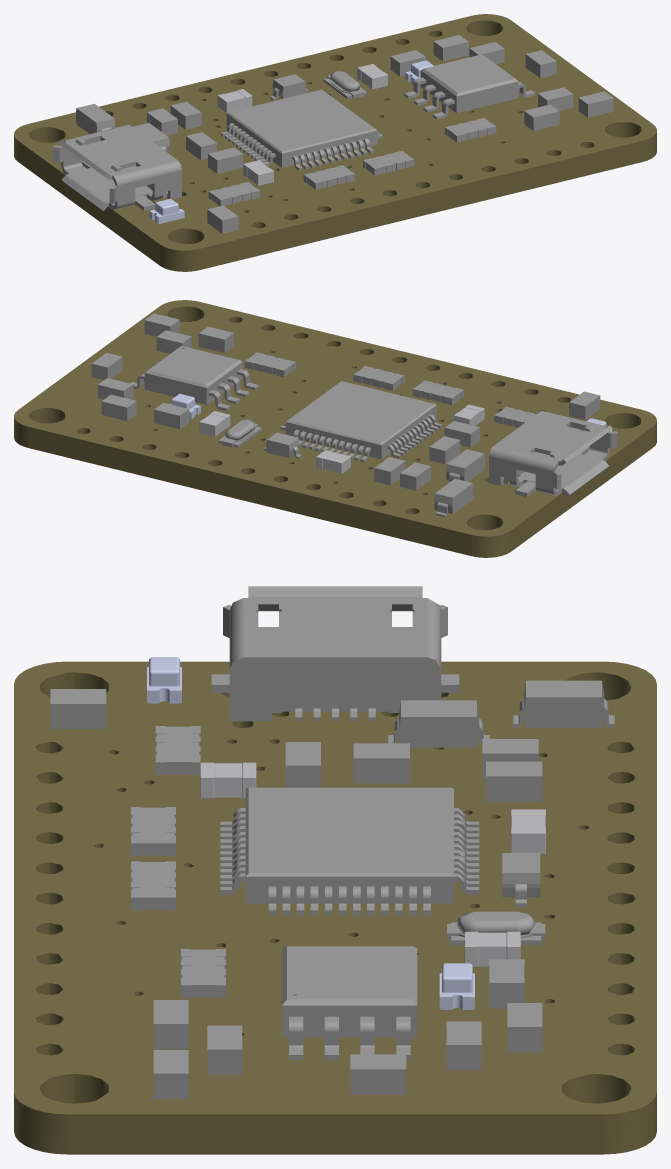
Rendered from ada-2341.glb.
3 renders of one model, top to bottom at view 1: azimuth 30°, elevation 25°; view 2: azimuth 150°, elevation 25°; view 3: azimuth 270°, elevation 25°, orthographic. The views are drawn at different scales.
Visible parts, largest first — view 1: 0.16666666666666666_0.16666666666666666_0.08333333333333333_, 0.3333333333333333_0.3333333333333333_0.3333333333333333_0, 0.5833333333333334_0.5833333333333334_0.5833333333333334_0.8, 0.5833333333333334_0.6666666666666666_0.8333333333333334_0; view 2: 0.16666666666666666_0.16666666666666666_0.08333333333333333_, 0.3333333333333333_0.3333333333333333_0.3333333333333333_0, 0.5833333333333334_0.5833333333333334_0.5833333333333334_0.8, 0.5833333333333334_0.6666666666666666_0.8333333333333334_0; view 3: 0.16666666666666666_0.16666666666666666_0.08333333333333333_, 0.3333333333333333_0.3333333333333333_0.3333333333333333_0, 0.5833333333333334_0.5833333333333334_0.5833333333333334_0.8, 0.5833333333333334_0.6666666666666666_0.8333333333333334_0.
Boxes of the visible parts, x1,y1,x2,y2 form: 0.16666666666666666_0.16666666666666666_0.08333333333333333_: (14,14,656,271); 0.3333333333333333_0.3333333333333333_0.3333333333333333_0: (53,35,613,233); 0.5833333333333334_0.5833333333333334_0.5833333333333334_0.8: (217,64,387,185); 0.5833333333333334_0.6666666666666666_0.8333333333333334_0: (149,60,433,223); 0.16666666666666666_0.16666666666666666_0.08333333333333333_: (14,300,656,557); 0.3333333333333333_0.3333333333333333_0.3333333333333333_0: (91,313,617,517); 0.5833333333333334_0.5833333333333334_0.5833333333333334_0.8: (199,404,484,474); 0.5833333333333334_0.6666666666666666_0.8333333333333334_0: (169,393,612,431); 0.16666666666666666_0.16666666666666666_0.08333333333333333_: (14,661,656,1154); 0.3333333333333333_0.3333333333333333_0.3333333333333333_0: (50,586,614,1098); 0.5833333333333334_0.5833333333333334_0.5833333333333334_0.8: (200,762,545,967); 0.5833333333333334_0.6666666666666666_0.8333333333333334_0: (147,657,474,1009).
Bounding box in the file's own units: 3.87 × 0.4341 × 2.29.
